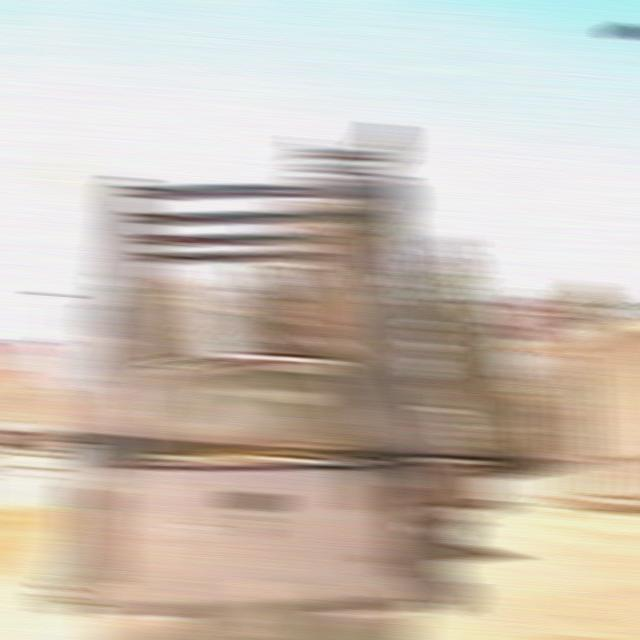stop: (505, 295, 555, 342), (2, 338, 53, 383)
